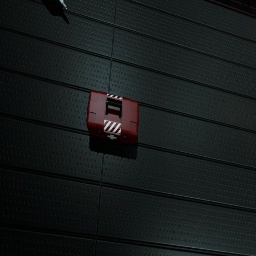0: (48, 0, 67, 10)
FirstAidBox ,: (86, 90, 139, 144)
